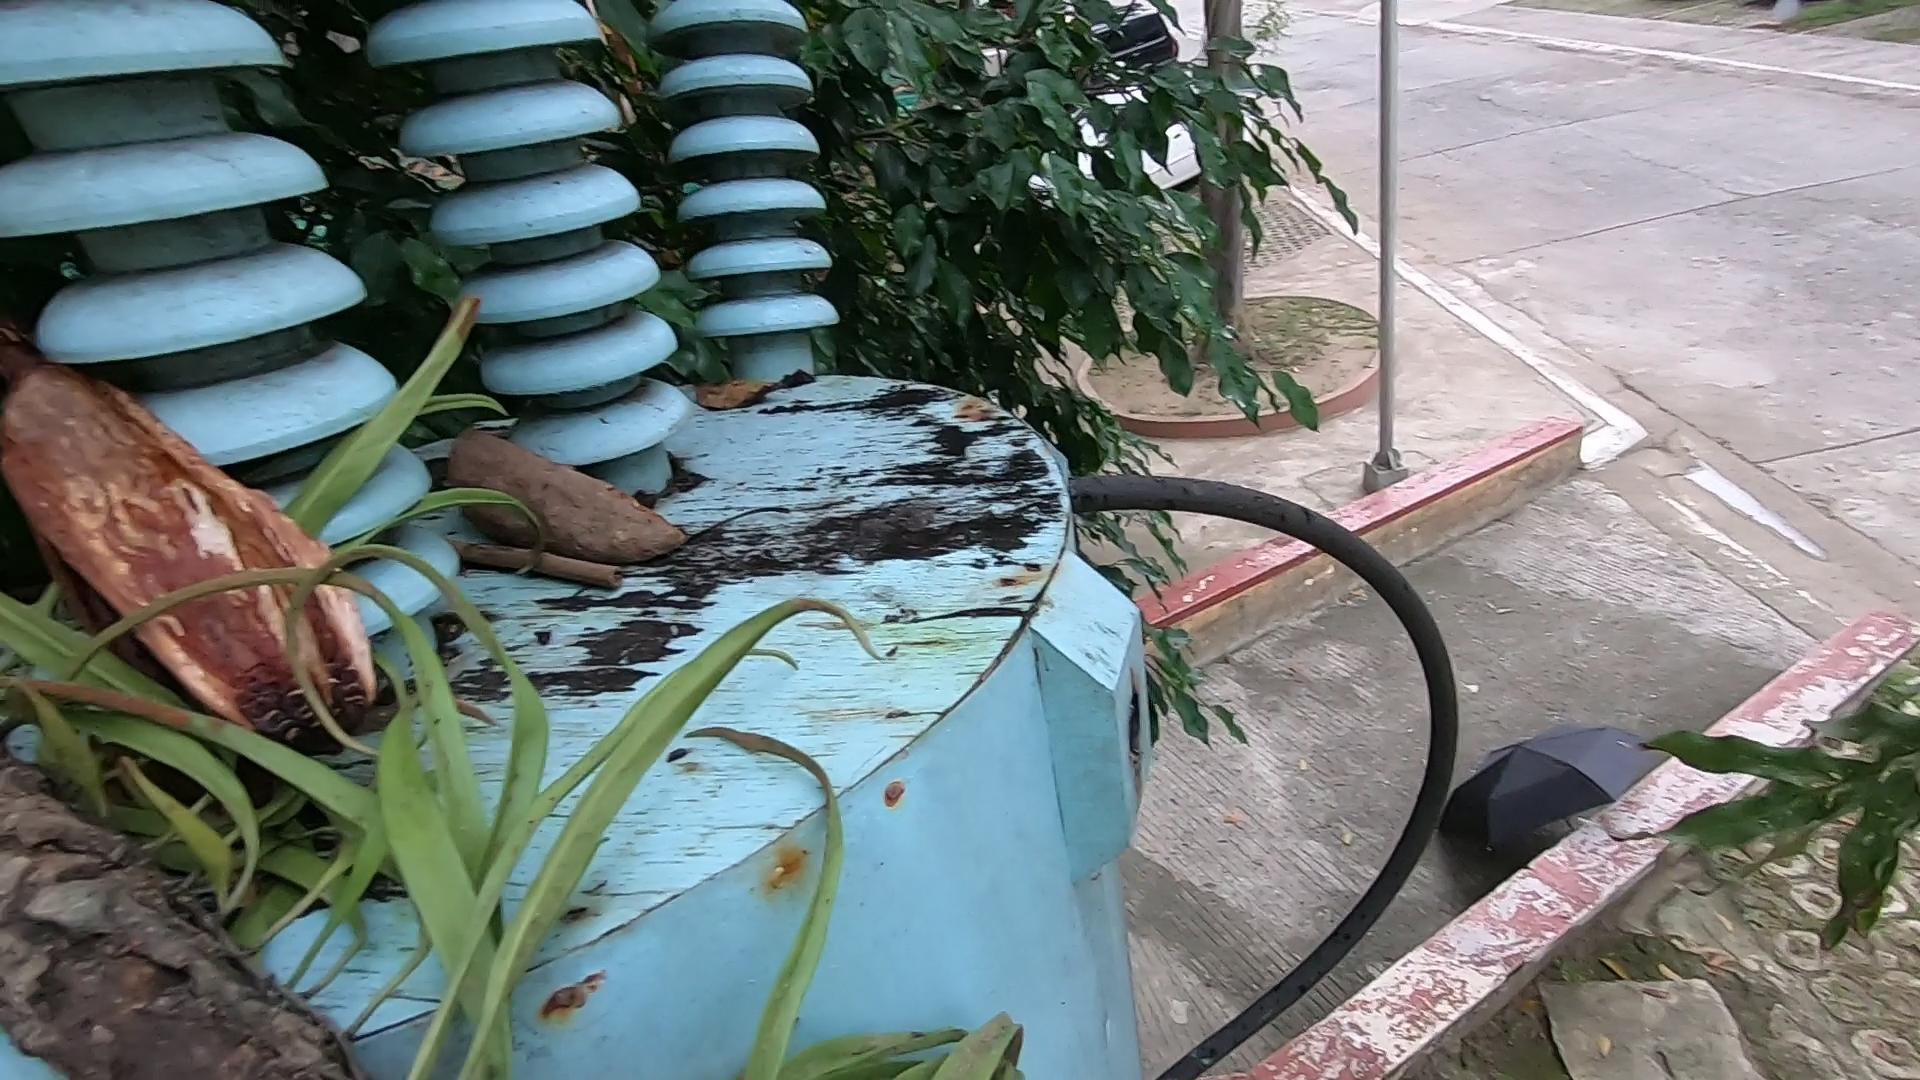branch with leaves: (24, 521, 727, 1080)
leaf: (674, 363, 855, 438)
mahogany fruit: (7, 348, 418, 756), (439, 404, 679, 567)
tree branch: (454, 513, 676, 628)
